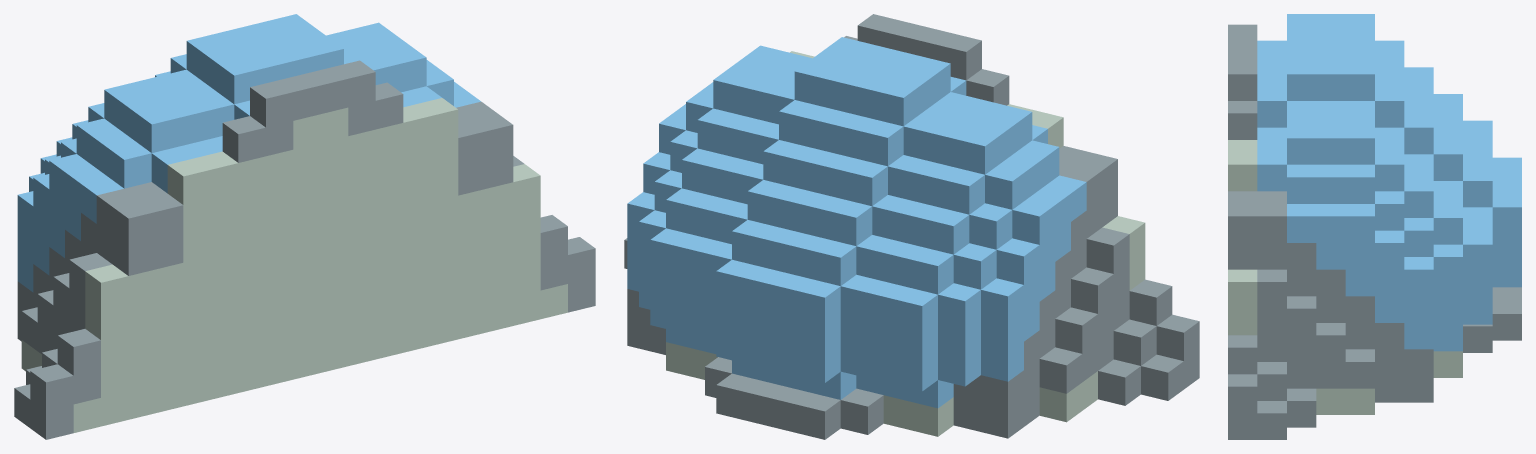
Rendered from Ilumination-11.obj.
3 views of the same model, side by side, from view 1: azimuth 30°, elevation 25°; view 2: azimuth 150°, elevation 25°; view 3: azimuth 270°, elevation 25° (orthographic). The views are drawn at different scales.
Size of the model in its own units: 2 by 1 by 1.
1 material, 1 textured.
